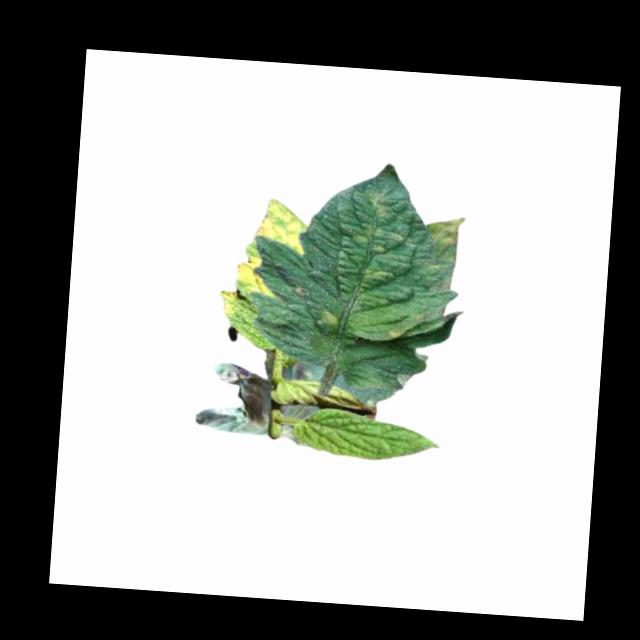Leaf_Mold: (349, 188, 407, 291), (253, 196, 310, 255), (233, 254, 280, 303), (421, 211, 470, 252), (308, 302, 339, 336), (385, 322, 403, 342)
